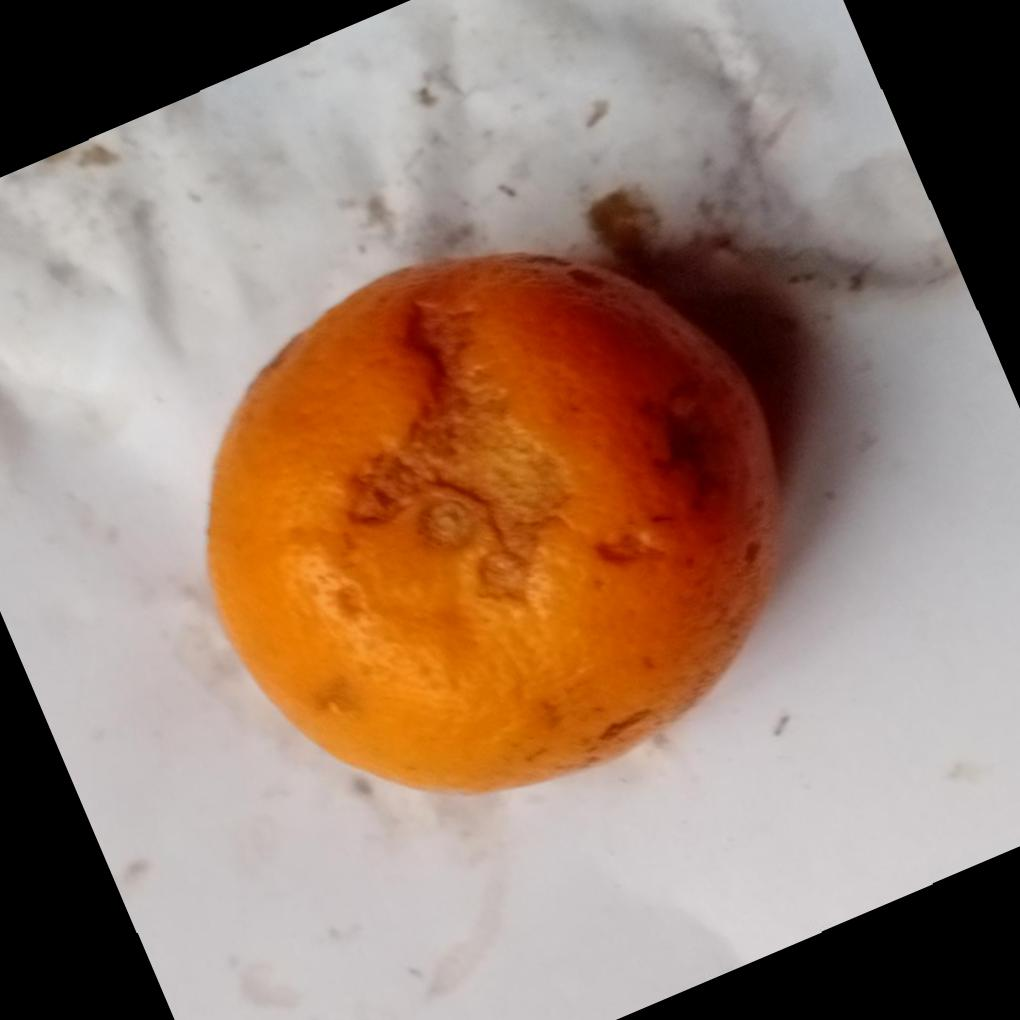FreshOrange: (202, 241, 786, 793)
